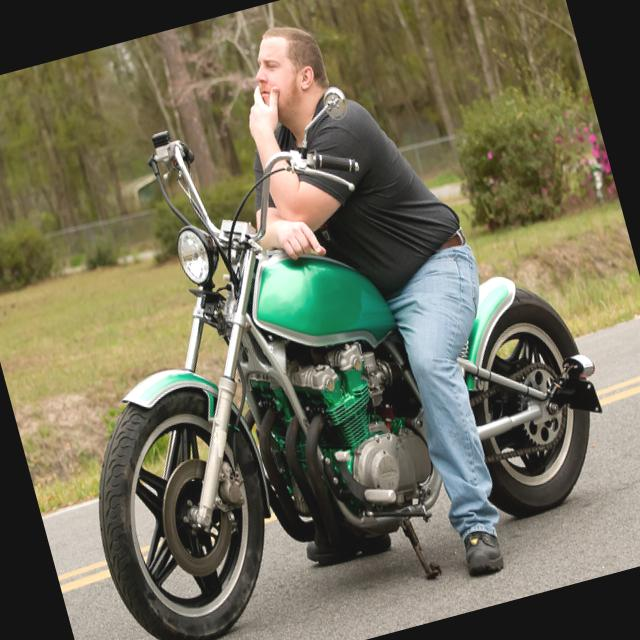Vehicle: (3, 51, 624, 640)
